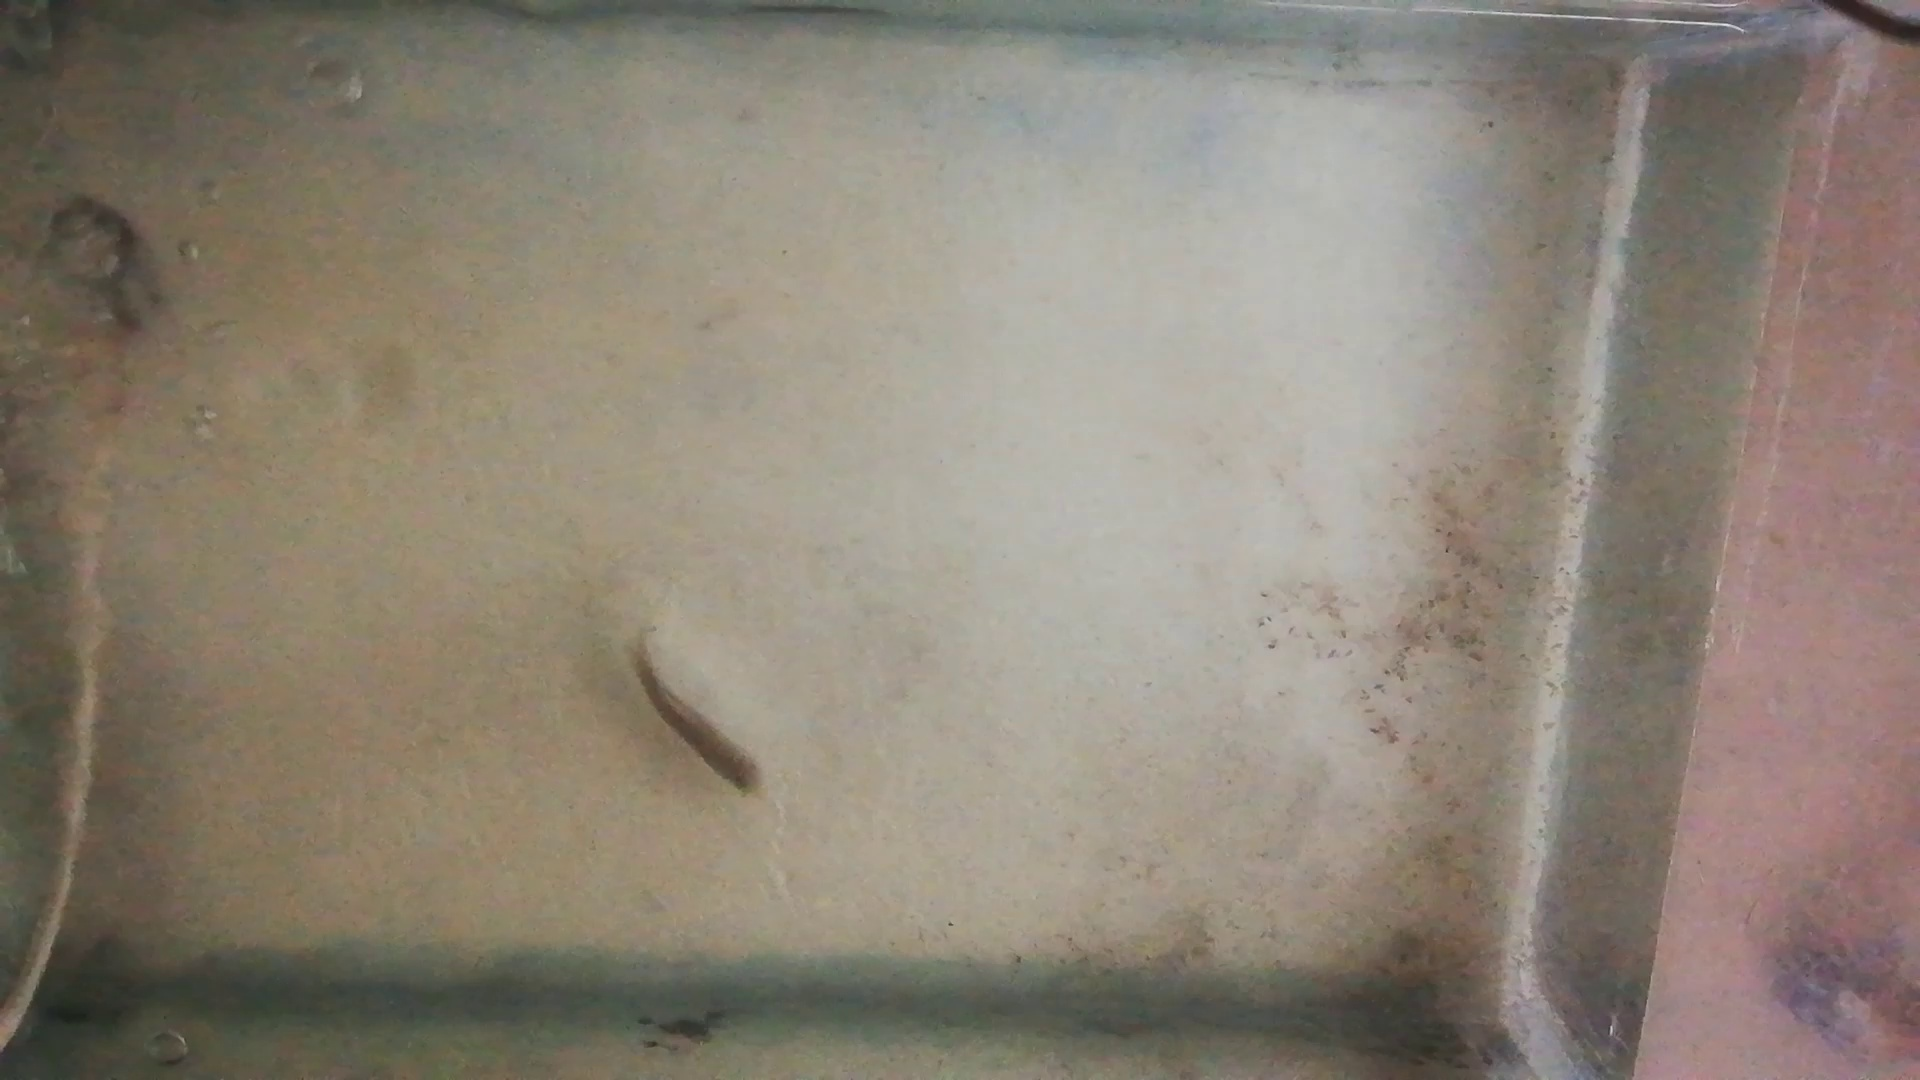fish: (621, 641, 762, 796)
